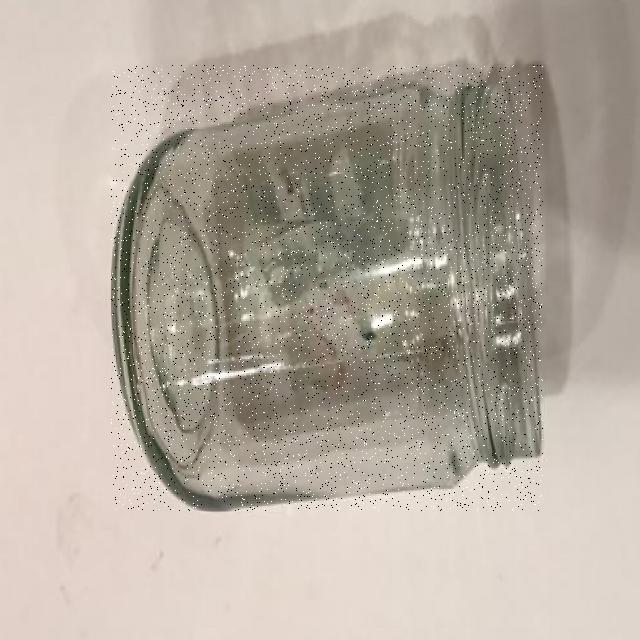glass: (112, 65, 543, 510)
